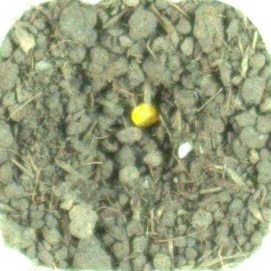chilli seed: (129, 101, 162, 128)
